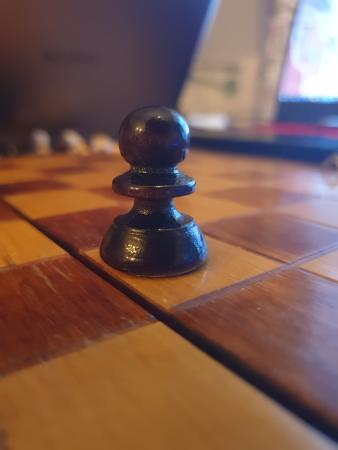bpawn: (99, 106, 206, 278)
